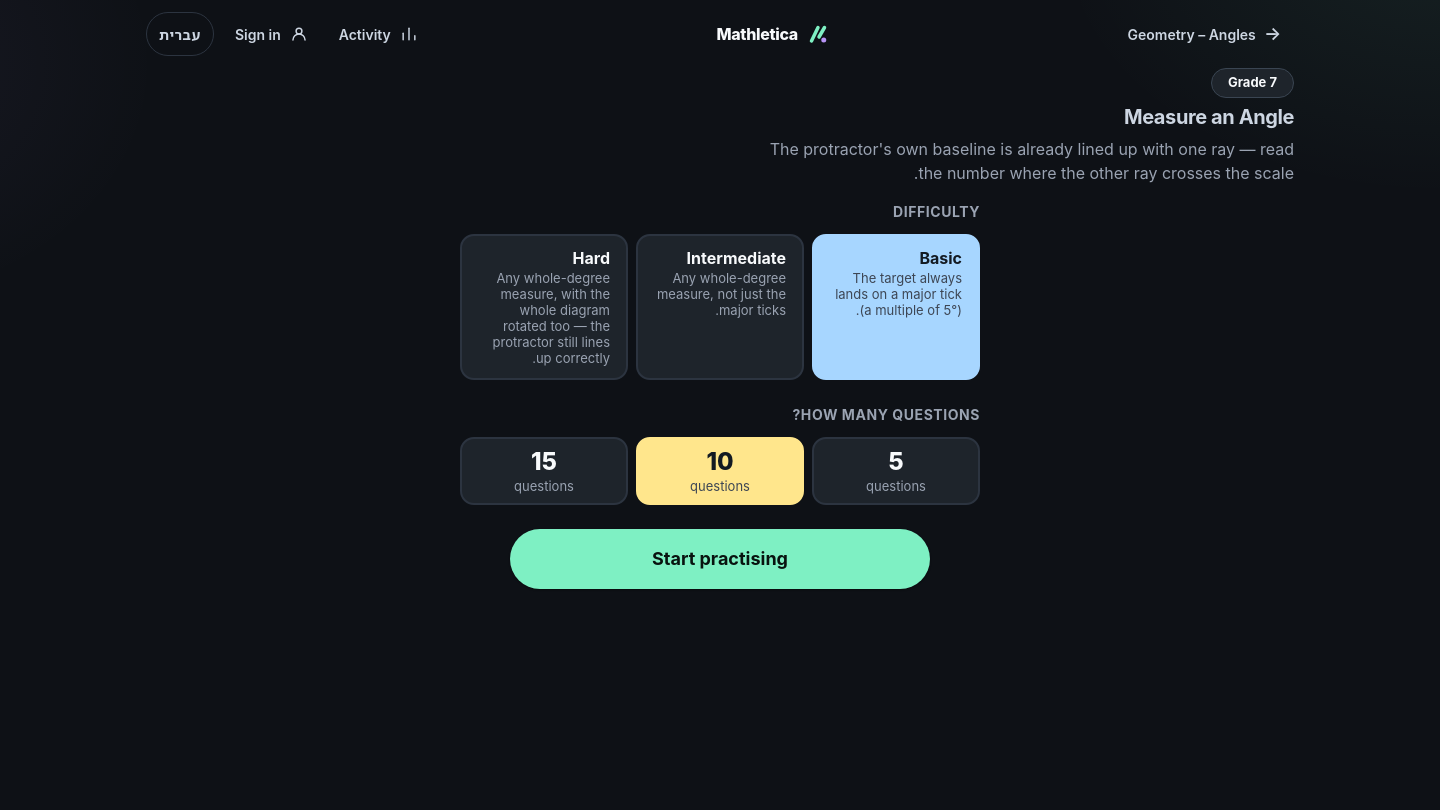
Test: Measure an Angle training activity (digital protractor) › typing a value and checking grades it, and shows feedback either way
This screenshot has width=1440, height=810.
Click the button with test id "tr-start".
click(720, 558)  # box [510, 528, 930, 588]
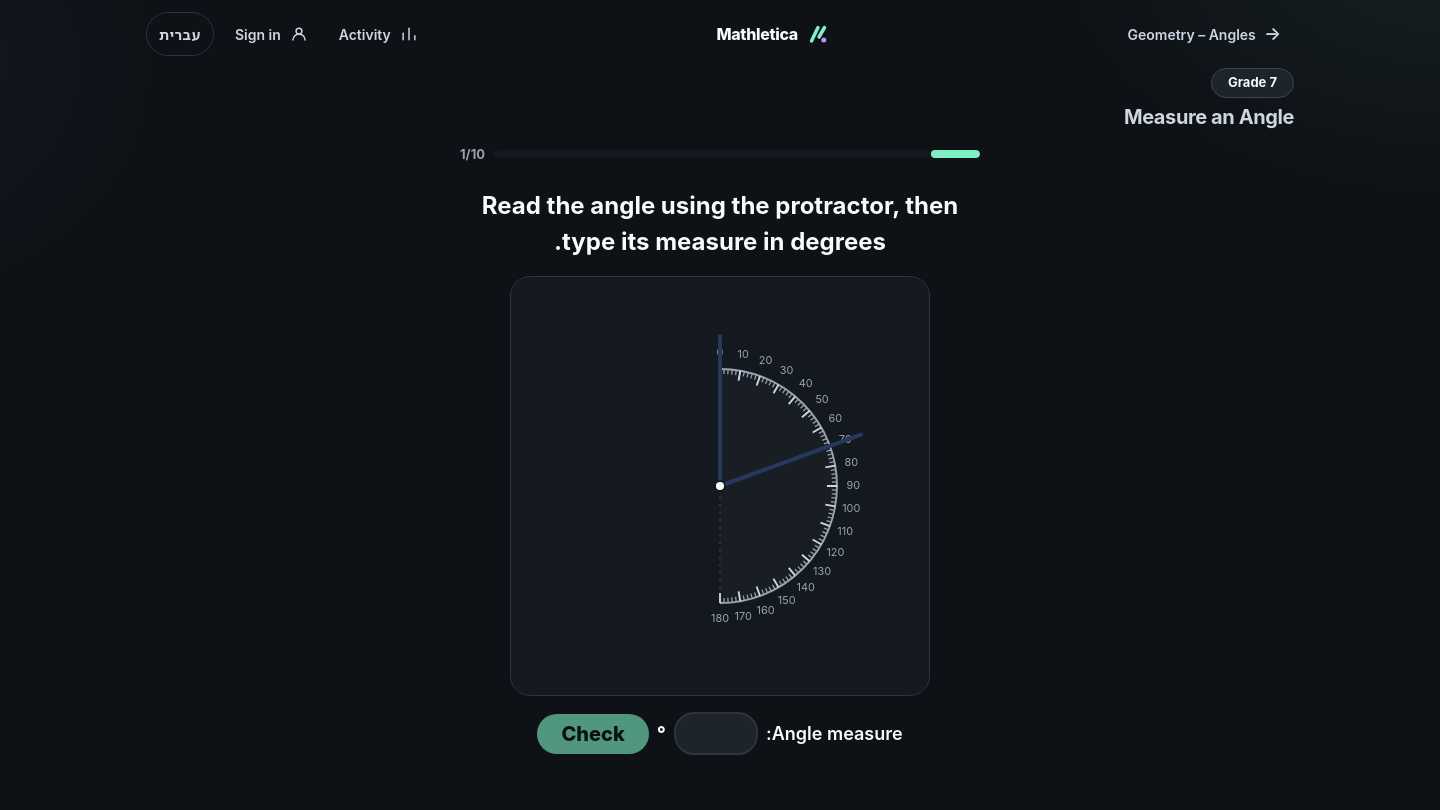
Type "90" into the number field with test id "angles-measure-input".
click(716, 734); type("90")  # box [674, 712, 758, 755]
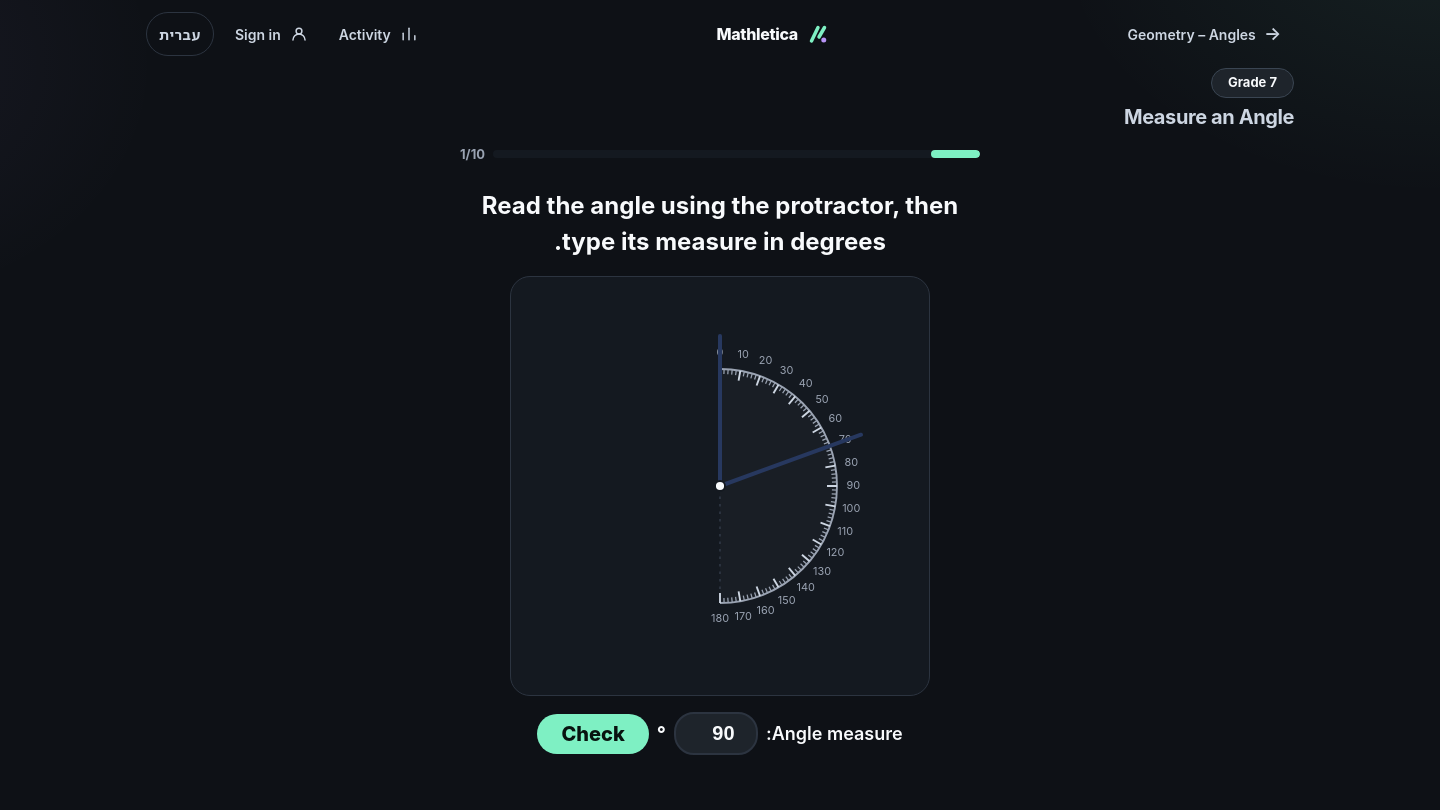
Click the button with test id "angles-measure-check".
click(593, 734)  # box [537, 714, 649, 754]
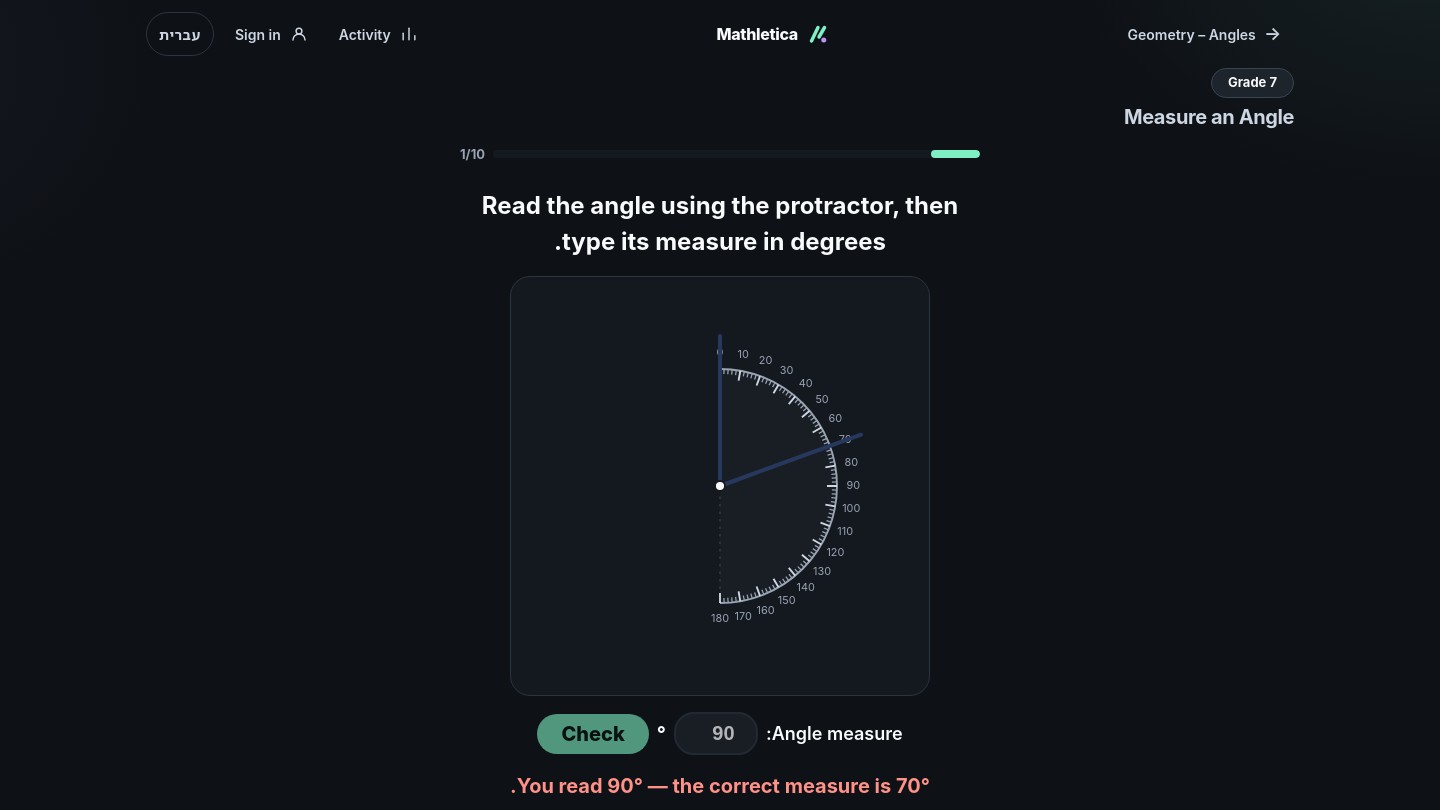
Expected: the element with class "angles7-feedback" does not show ""
Expected: the message "You read 90° — the correct measure is 70°." is shown, [510, 774, 930, 798]
